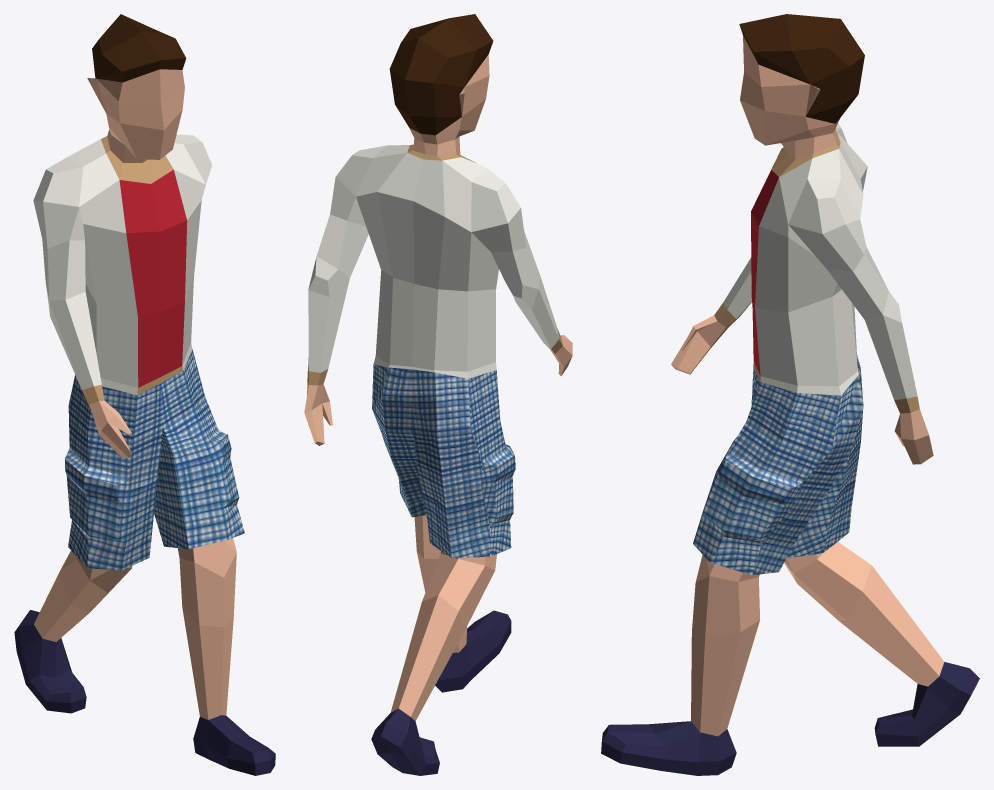
The model's file is SpringBoy.010.glb.
3 renders of one model, left to right at view 1: azimuth 30°, elevation 25°; view 2: azimuth 150°, elevation 25°; view 3: azimuth 270°, elevation 25°, orthographic. The views are drawn at different scales.
Parts seen in each view (by area): view 1: SpringBoy.010; view 2: SpringBoy.010; view 3: SpringBoy.010.
Boxes of the visible parts, left/top/right/bottom form: SpringBoy.010: left=14, top=14, right=275, bottom=775; SpringBoy.010: left=304, top=14, right=572, bottom=775; SpringBoy.010: left=601, top=14, right=979, bottom=775.
Size of the model in its own units: 0.3251 by 1.21 by 0.5594.
Materials: 1 (1 with a texture image).
